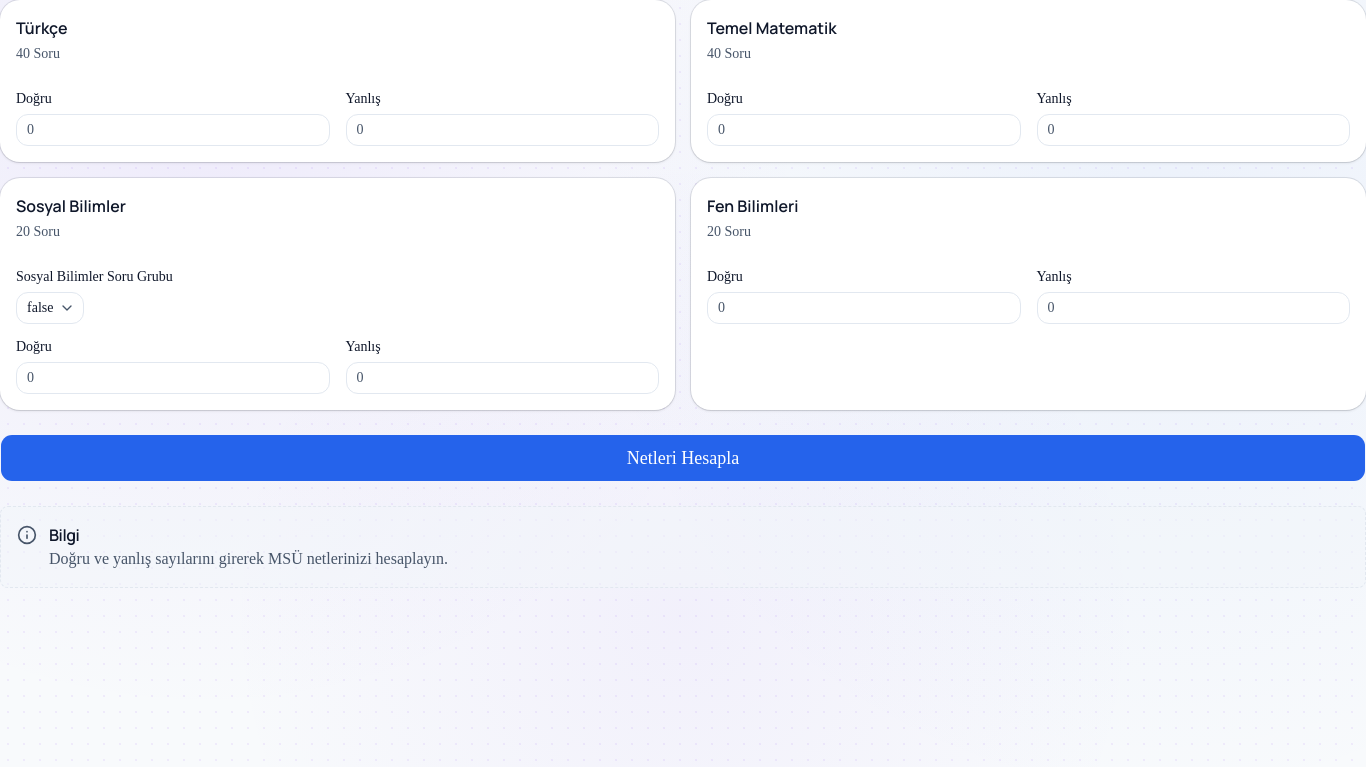
Test case: MsuForm › renders inputs and calculates correctly
expect the text "Doğru ve yanlış sayılarını girerek MSÜ netlerinizi hesaplayın." is shown: met, box x1=49 y1=547 x2=448 y2=571
Click calculate
Click the button "Netleri Hesapla": (683, 458) x1=0 y1=434 x2=1365 y2=482
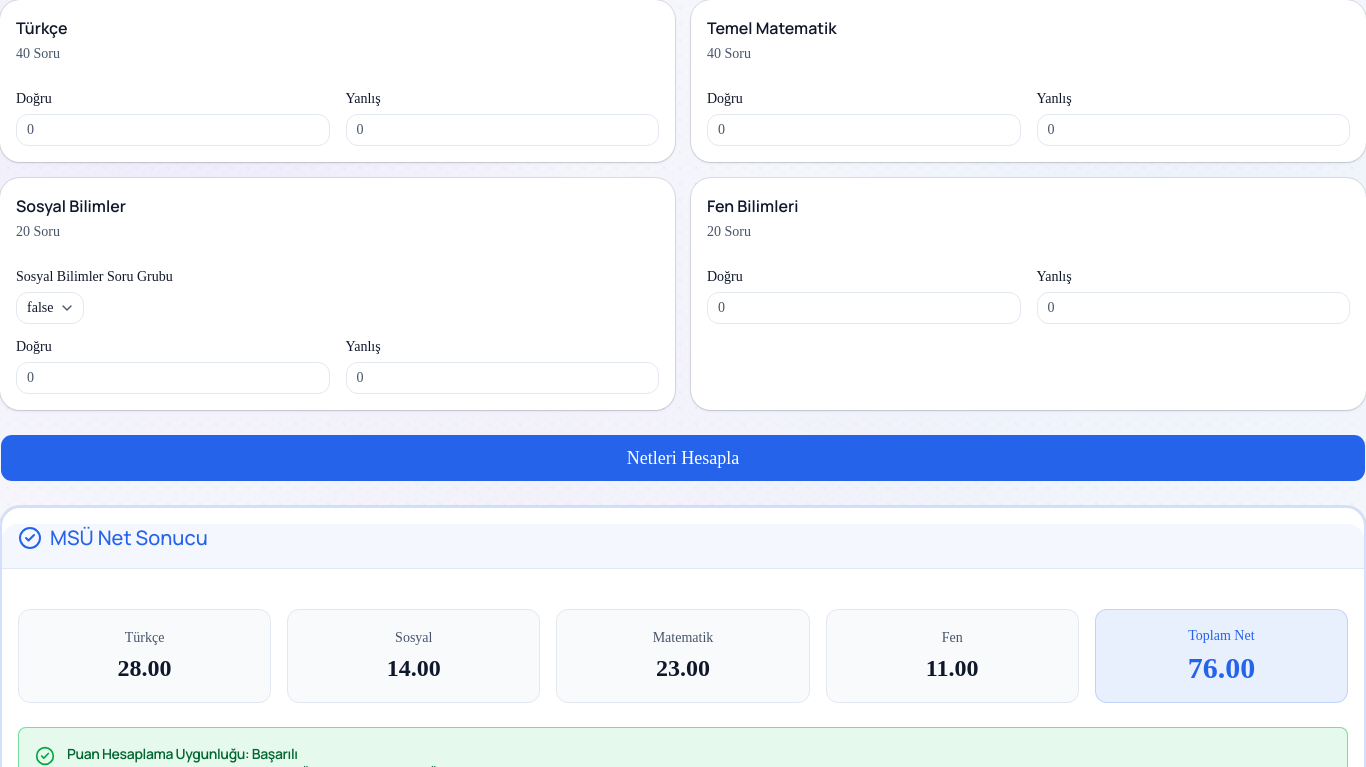
expect the text "MSÜ Net Sonucu" is shown: met, box x1=18 y1=524 x2=208 y2=551
expect the text "76.00" is shown: met, box x1=1188 y1=651 x2=1255 y2=684
expect the heading "Puan Hesaplama Uygunluğu: Başarılı" is shown: met, box x1=67 y1=744 x2=298 y2=763
